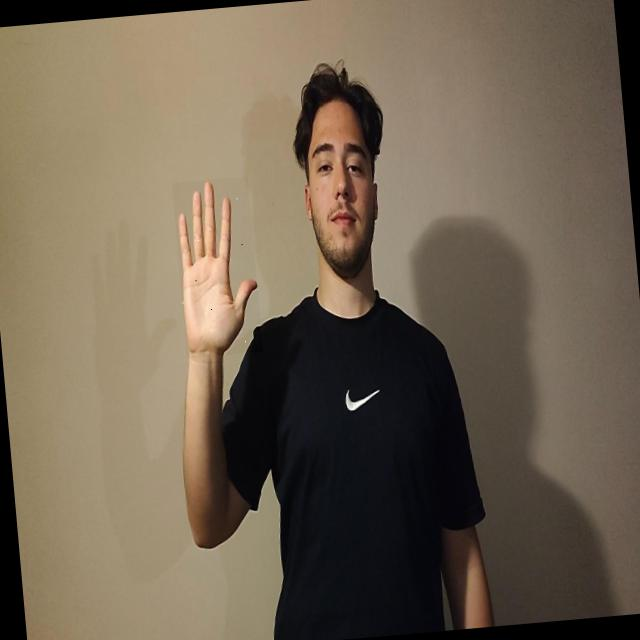hello: (172, 176, 262, 358)
